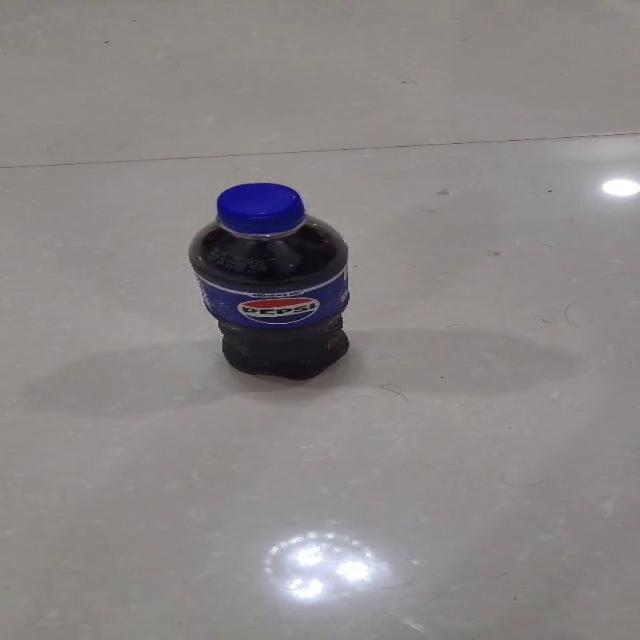plastic: (186, 182, 351, 380)
